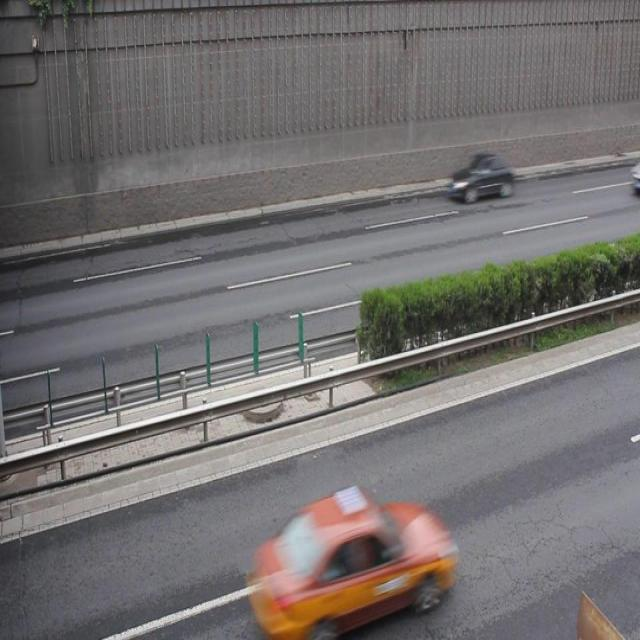car: (246, 484, 451, 640), (444, 150, 514, 202)
